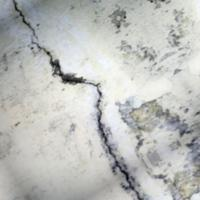crack: (6, 2, 148, 198)
